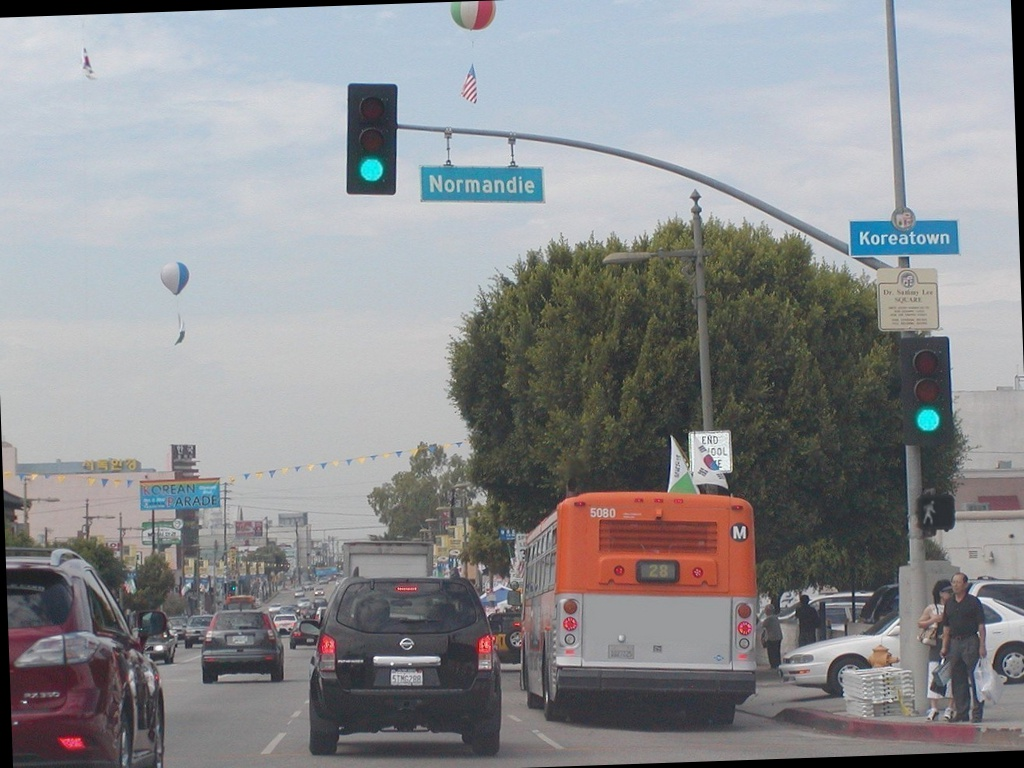traffic_light: (898, 336, 955, 447), (345, 82, 399, 197)
